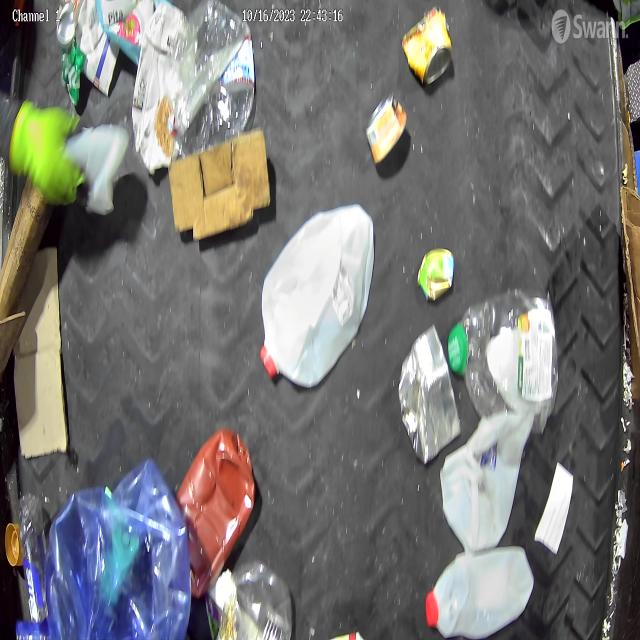can: (399, 325, 461, 468), (402, 7, 454, 90), (367, 93, 408, 166), (58, 5, 87, 104), (417, 248, 454, 301)
milk_jug: (260, 202, 373, 388), (440, 412, 532, 550), (426, 545, 536, 640)
non_white_jug: (44, 456, 192, 640), (175, 426, 256, 598), (132, 2, 183, 173)
plastic_bottle: (447, 292, 559, 426), (181, 2, 256, 155), (20, 506, 48, 624)
